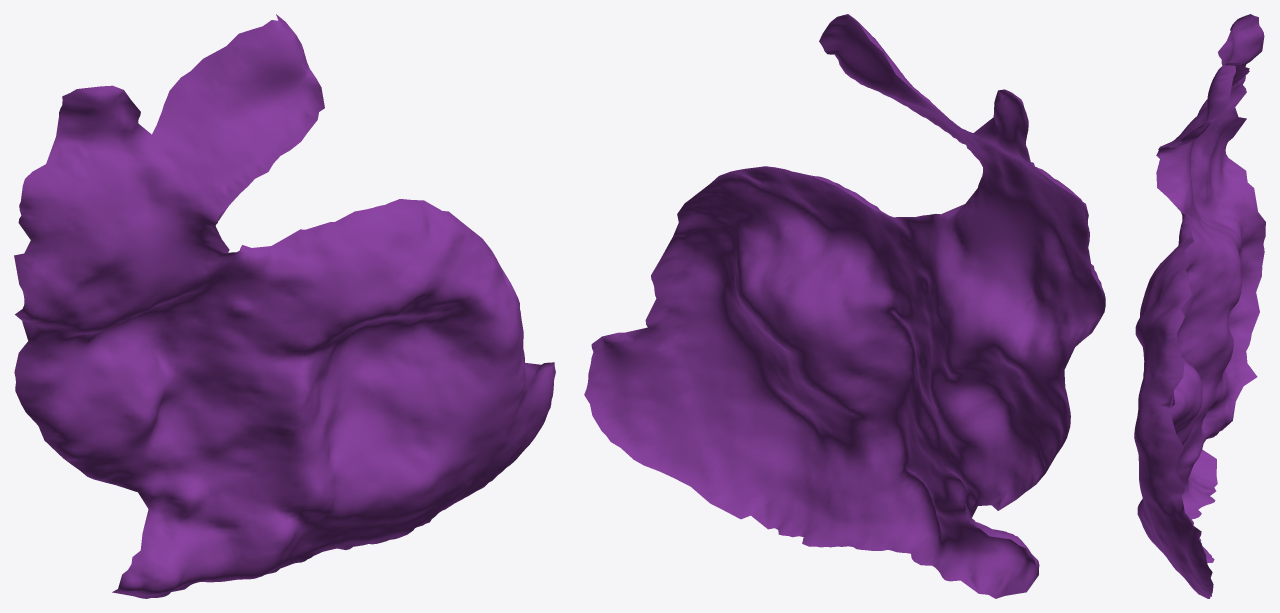
The model's file is real_bunny_SFHC.glb.
3 renders of one model, left to right at view 1: azimuth 30°, elevation 25°; view 2: azimuth 150°, elevation 25°; view 3: azimuth 270°, elevation 25°, orthographic. The views are drawn at different scales.
Parts seen in each view (by area): view 1: result-20251219_135336-bunny-baseline; view 2: result-20251219_135336-bunny-baseline; view 3: result-20251219_135336-bunny-baseline.
Boxes of the visible parts, left/top/right/bottom form: result-20251219_135336-bunny-baseline: left=14, top=14, right=555, bottom=598; result-20251219_135336-bunny-baseline: left=584, top=14, right=1105, bottom=598; result-20251219_135336-bunny-baseline: left=1134, top=14, right=1265, bottom=598.
Size of the model in its own units: 0.9797 by 0.9778 by 0.2426.
